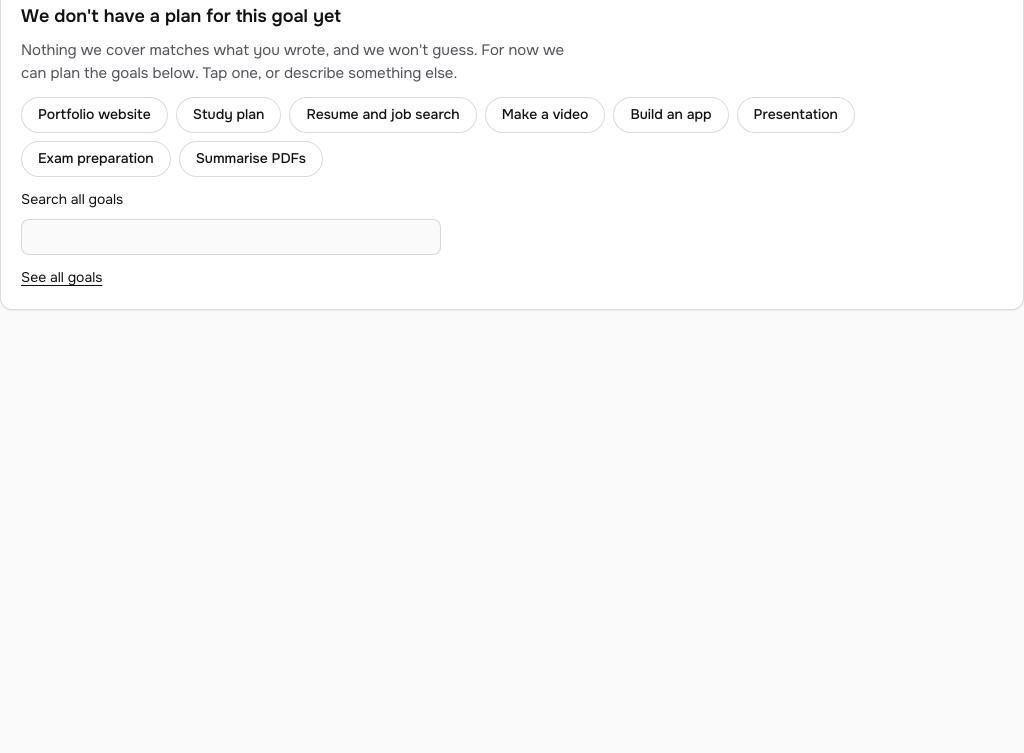
NoMatchCard › expands a list of all goals, grouped by category
Click the button "See all goals".
click(62, 278)  # box [21,267,102,289]
(page scrolled)
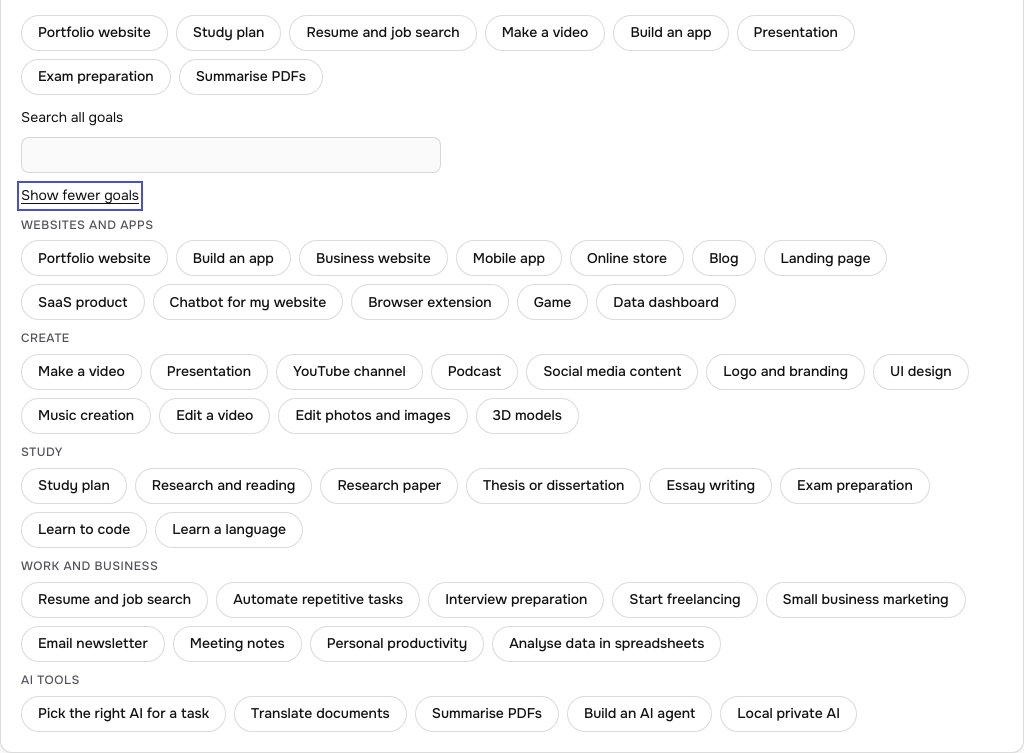
Now the button named "See all goals" is expanded, box [21,185,139,207]
Now the heading "Websites and apps" is shown, box [21,217,154,233]
Now the heading "Create" is shown, box [21,330,70,346]
